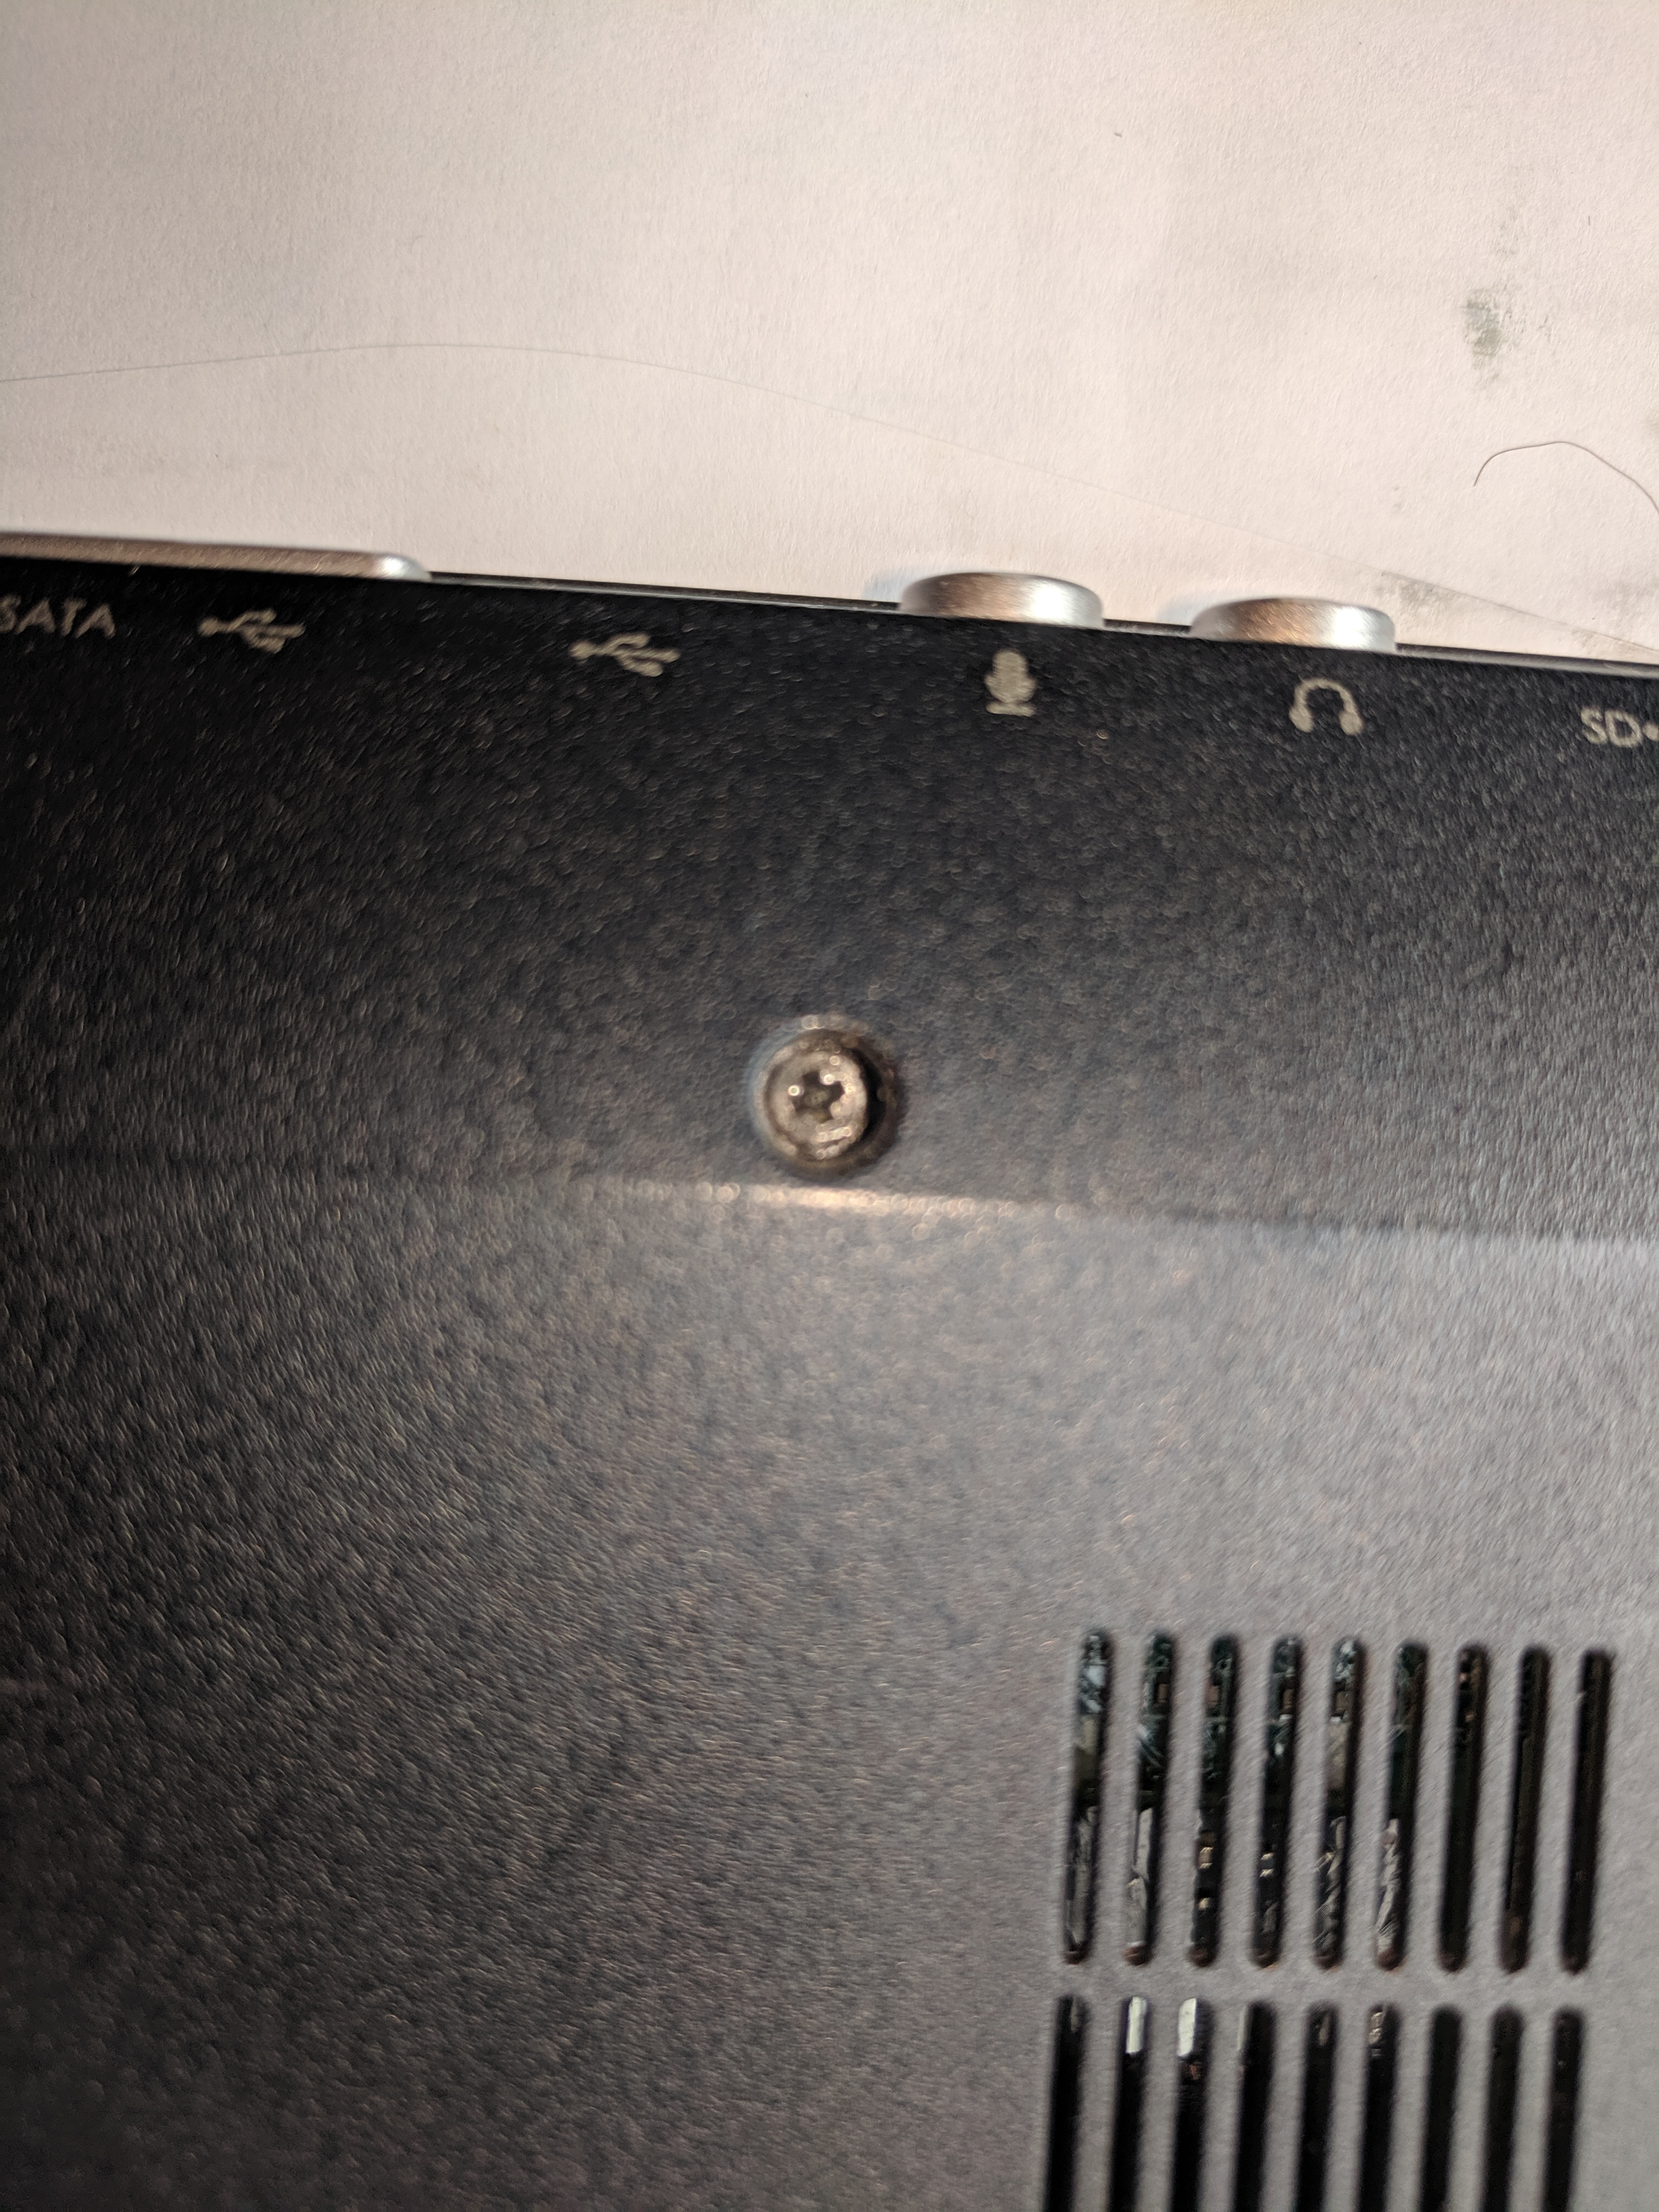cross_recessed_screw: (762, 1033, 875, 1153)
